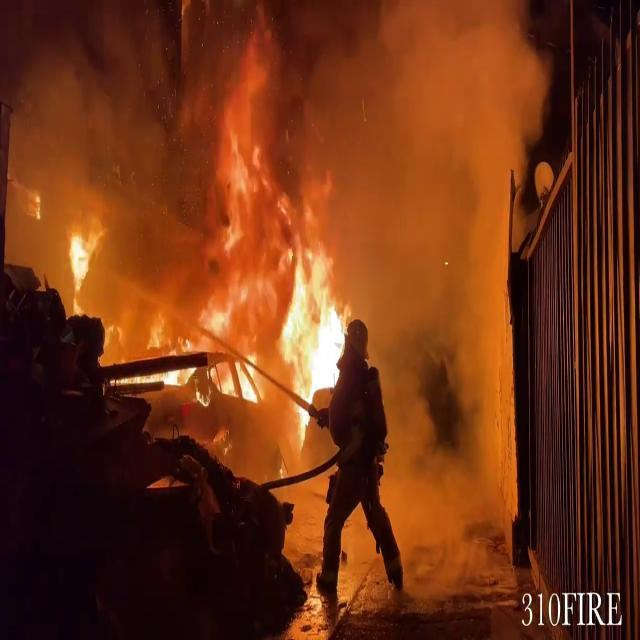Fire: (158, 283, 269, 418), (278, 227, 350, 421), (64, 222, 100, 304)
Smoke: (290, 2, 547, 571), (0, 0, 304, 303)
